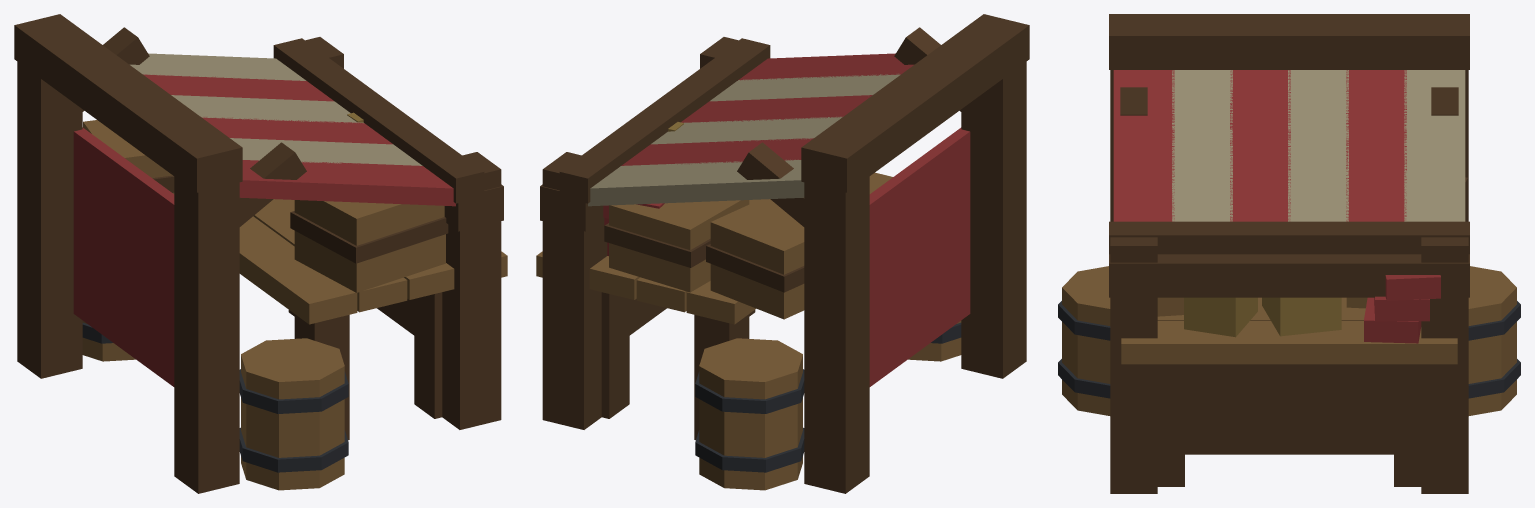
The model's file is market_stall.glb.
The picture shows the model from 3 angles, left to right: view 1: azimuth 30°, elevation 25°; view 2: azimuth 150°, elevation 25°; view 3: azimuth 270°, elevation 25°; orthographic projection.
Parts seen in each view (by area): view 1: timber, cloth, timber_light, canvas, iron_dark; view 2: timber, timber_light, cloth, canvas, iron_dark; view 3: timber, cloth, canvas, timber_light, thatch, iron_dark.
Boxes of the visible parts, box(x1,y1,x2,y2) form: timber: box(14, 14, 503, 493); cloth: box(73, 74, 455, 386); timber_light: box(82, 120, 507, 490); canvas: box(130, 53, 422, 165); iron_dark: box(82, 322, 348, 472); timber: box(540, 14, 1029, 493); timber_light: box(536, 172, 961, 490); cloth: box(603, 53, 970, 386); canvas: box(588, 73, 900, 206); iron_dark: box(695, 322, 961, 472); timber: box(1109, 14, 1469, 493); cloth: box(1113, 70, 1440, 343); canvas: box(1172, 70, 1465, 221); timber_light: box(1062, 266, 1516, 415); thatch: box(1184, 297, 1341, 337); iron_dark: box(1058, 301, 1520, 398).
Bounding box in the file's own units: 29.1 × 29.5 × 37.2.
